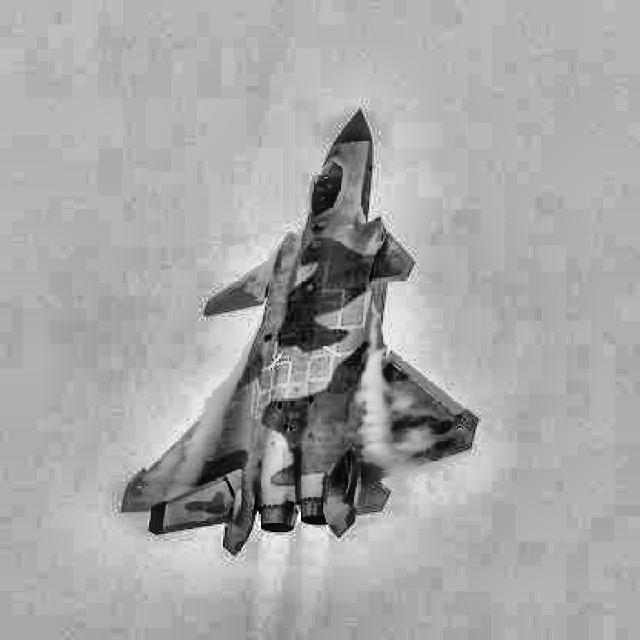J20: (119, 109, 479, 556)
